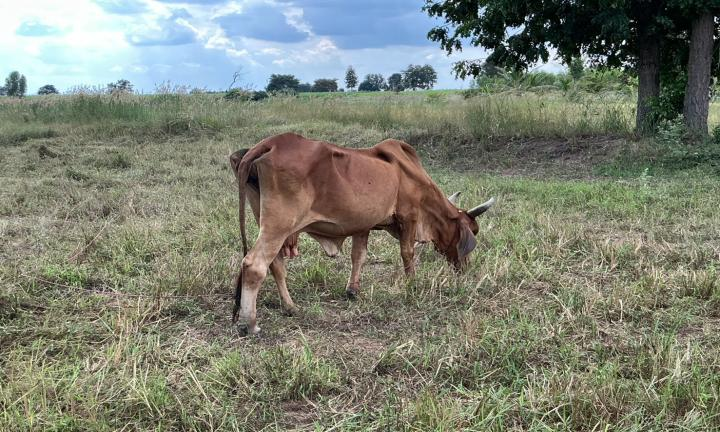Brahman: (231, 133, 494, 334)
